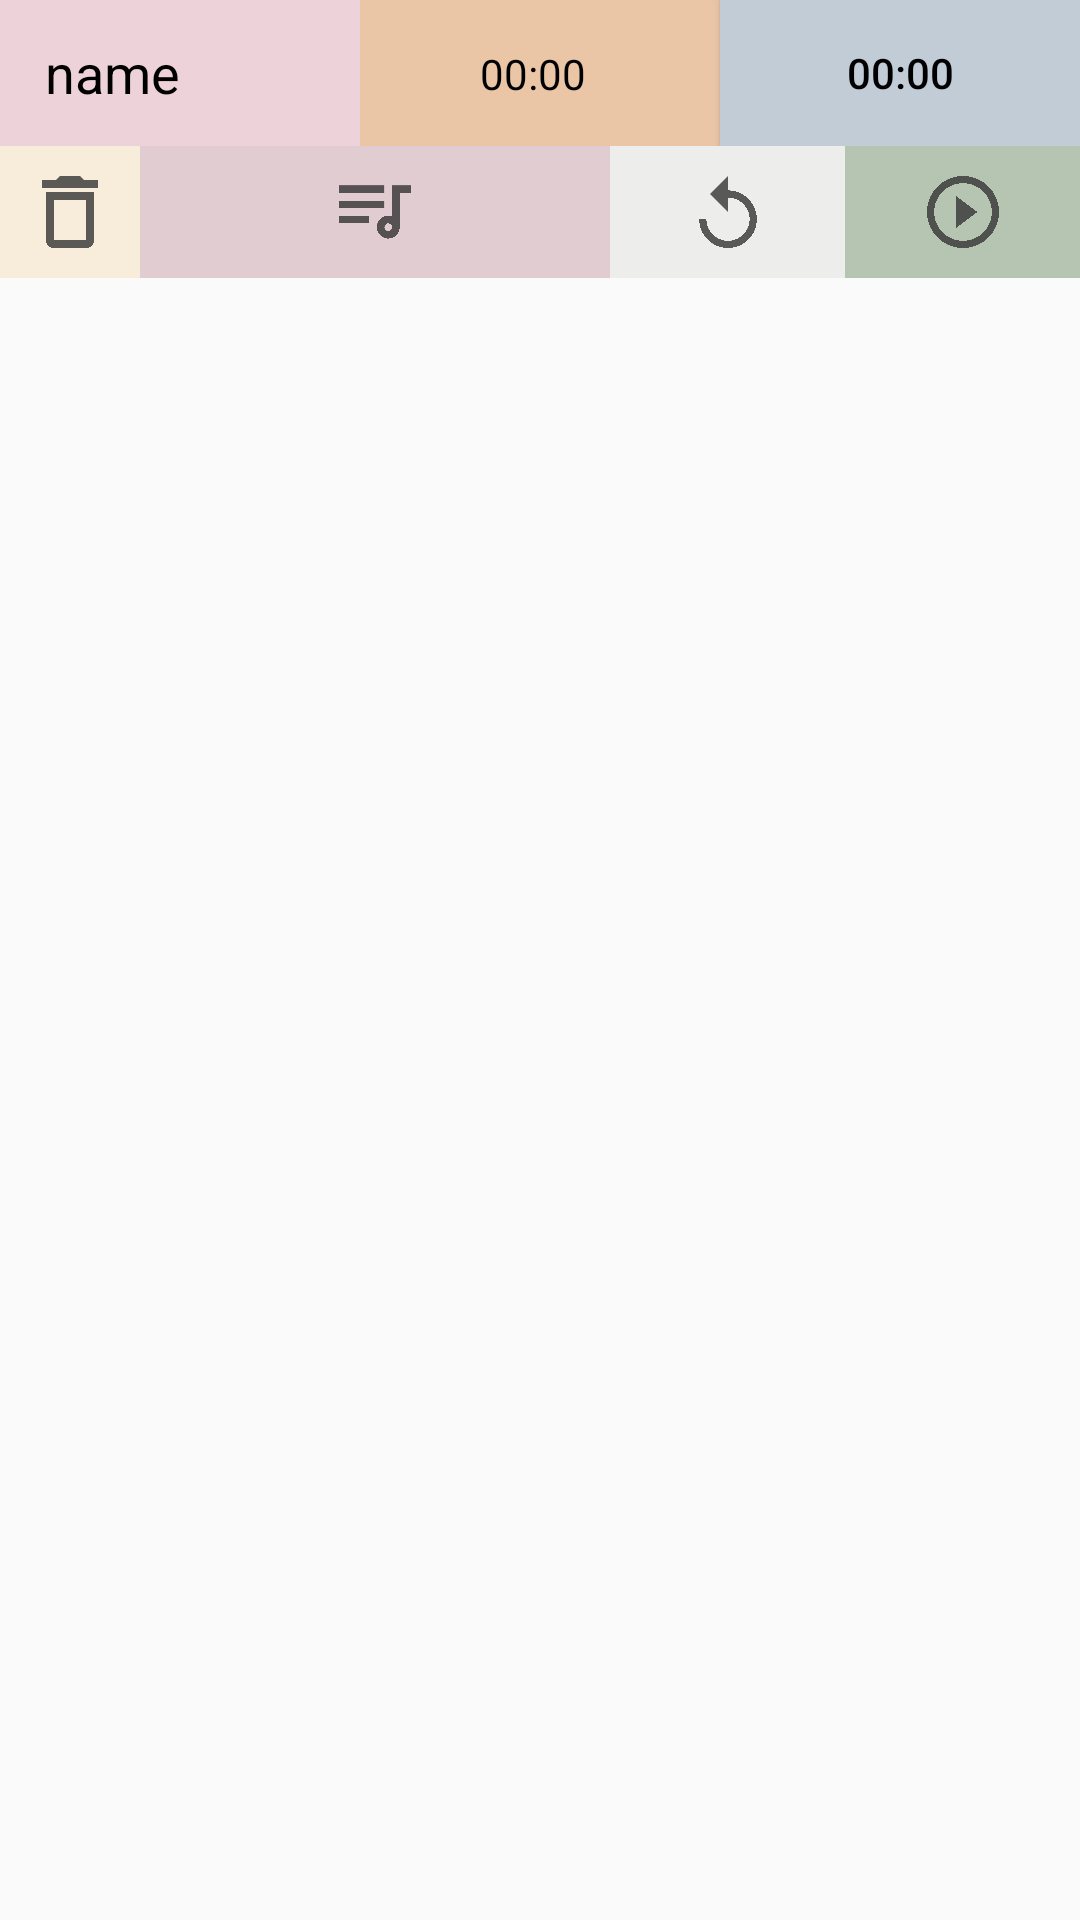

Where to tap for icons on this 1080 × 1920 app screen, as [x,y]:
delete: [70,212]
reset: [727,212]
start: [962,212]
